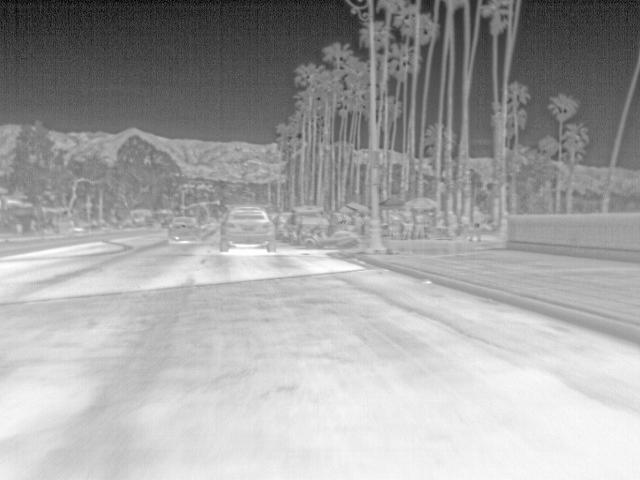car: (221, 206, 272, 250), (288, 204, 325, 242), (168, 213, 202, 239), (124, 206, 154, 228), (273, 212, 294, 239)
person: (467, 206, 485, 240), (412, 206, 428, 239), (400, 208, 413, 240), (446, 208, 459, 239)
